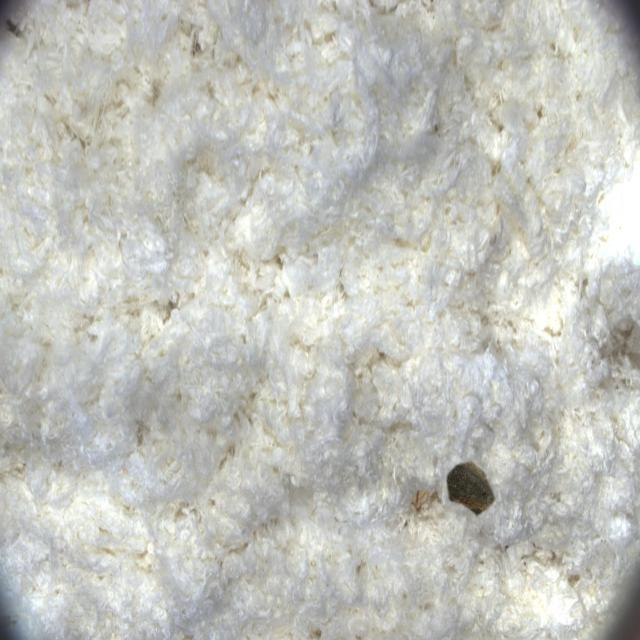dust: (433, 433, 521, 550)
